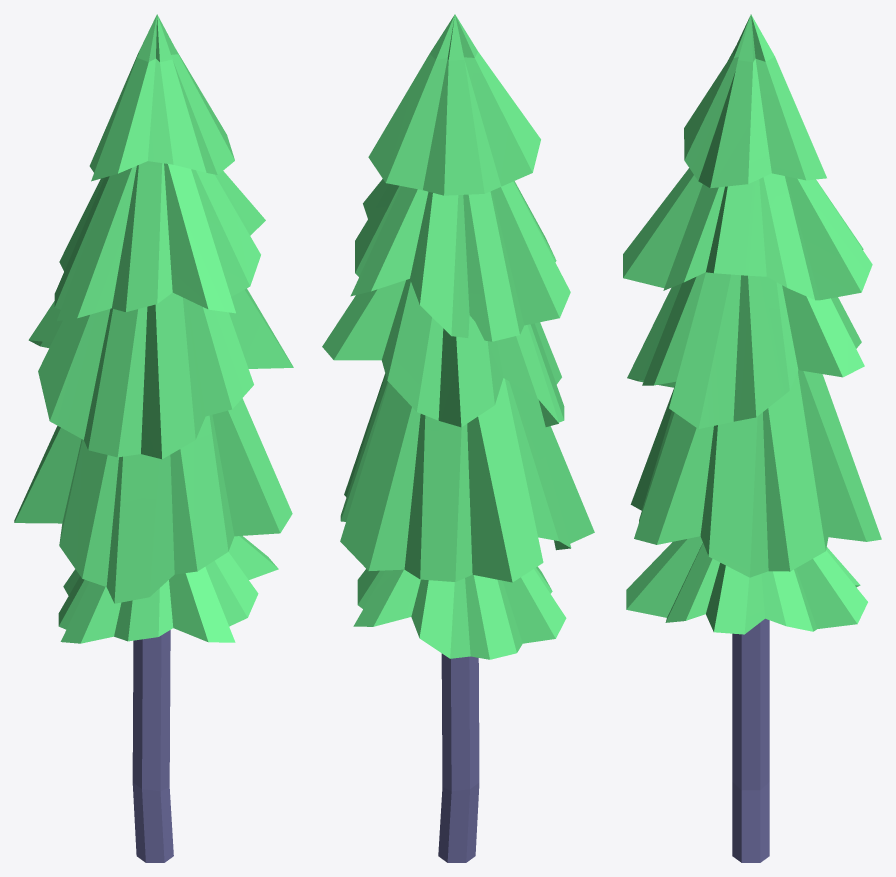
File: SM_Tree_01.fbx
The picture shows the model from 3 angles, left to right: view 1: azimuth 30°, elevation 25°; view 2: azimuth 150°, elevation 25°; view 3: azimuth 270°, elevation 25°; orthographic projection.
Visible parts, largest first — view 1: elka1; view 2: elka1; view 3: elka1.
Boxes of the visible parts, x1,y1,x2,y2 form: elka1: [14, 14, 293, 862]; elka1: [322, 14, 594, 862]; elka1: [623, 14, 881, 862].
Bounding box in the file's own units: 198 × 701 × 195.
